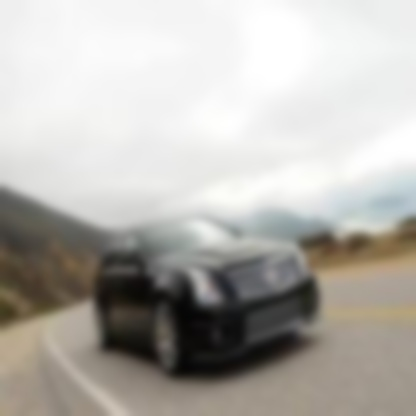Vehicle: (94, 214, 327, 378)
